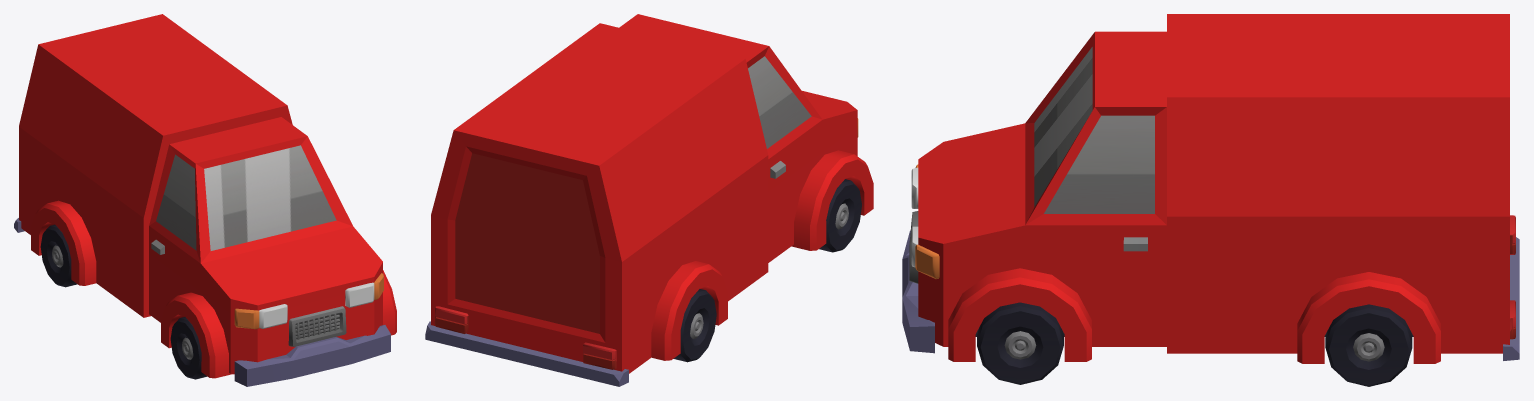
The model's file is Van_8.glb.
3 renders of one model, left to right at view 1: azimuth 30°, elevation 25°; view 2: azimuth 150°, elevation 25°; view 3: azimuth 270°, elevation 25°, orthographic. The views are drawn at different scales.
Visible parts, largest first — view 1: Van_8, wheel_FR, wheel_BR; view 2: Van_8, wheel_BR, wheel_FR; view 3: Van_8, wheel_BL, wheel_FL.
Boxes of the visible parts, <box> form: Van_8: <box>14,14,396,386</box>; wheel_FR: <box>170,317,207,379</box>; wheel_BR: <box>40,224,77,287</box>; Van_8: <box>425,14,873,386</box>; wheel_BR: <box>673,289,716,362</box>; wheel_FR: <box>819,179,861,252</box>; Van_8: <box>902,14,1519,363</box>; wheel_BL: <box>1325,304,1412,386</box>; wheel_FL: <box>977,302,1063,384</box>.
Bounding box in the file's own units: 1.23 × 1.19 × 2.48.
5 materials, 5 textured.
